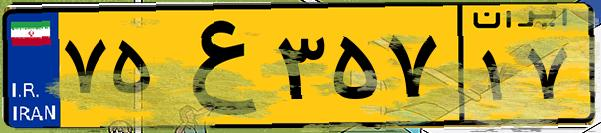1: (475, 38, 525, 113)
3: (270, 28, 330, 110)
5: (330, 28, 385, 110), (110, 28, 158, 98)
7: (385, 28, 445, 110), (57, 26, 110, 100), (525, 38, 570, 115)
ع: (158, 12, 270, 120)
